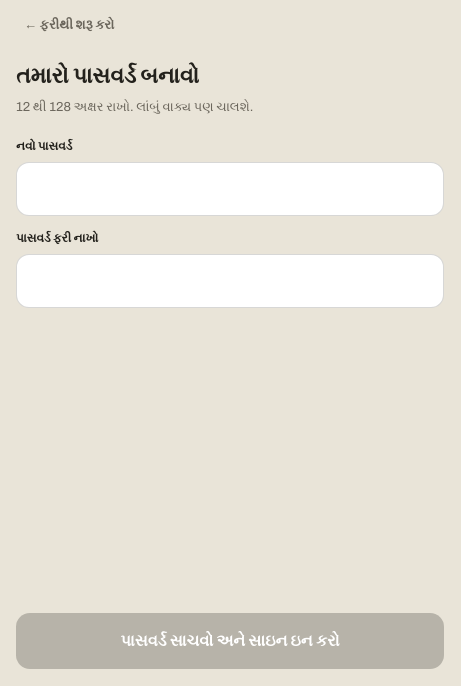
Test: every email and password sign-in screen in gu › the password guidance reads in the same language
This screenshot has width=461, height=686.
In the password field labelled "નવો પાસવર્ડ": point(230, 189) 16,162 -> 444,216, type "short"
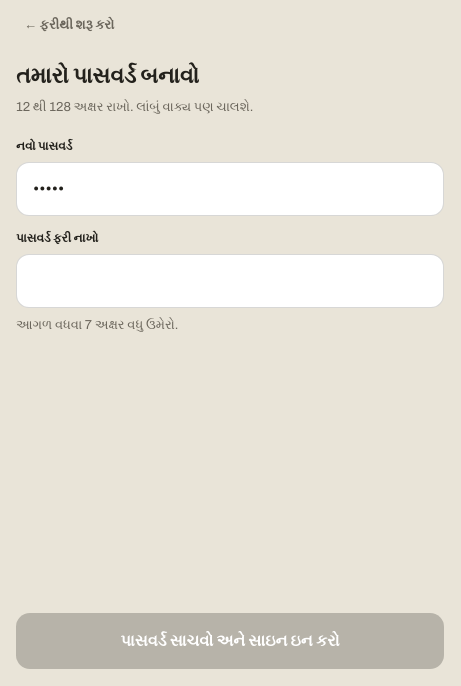
Result: the text "આગળ વધવા 7 અક્ષર વધુ ઉમેરો." is shown at 16,318 -> 178,332
